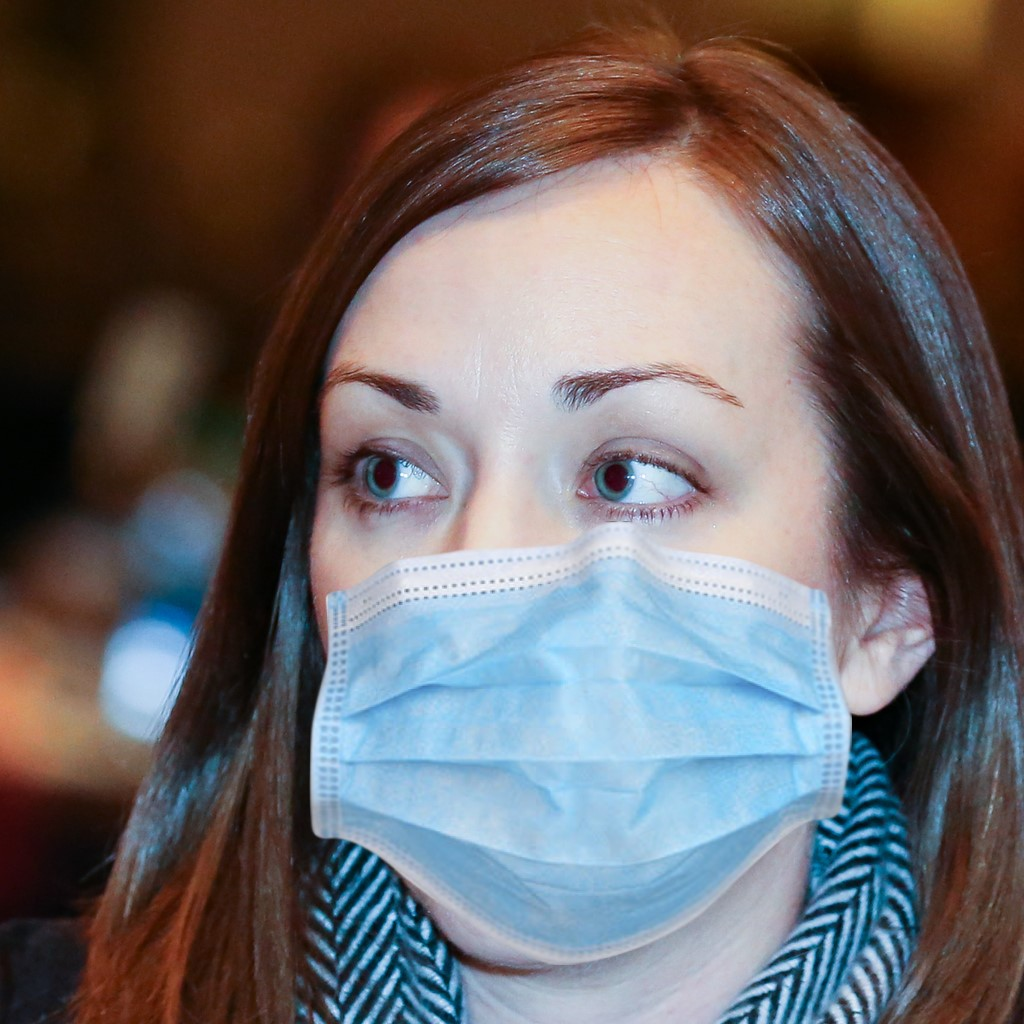con_mascara: (309, 212, 876, 962)
